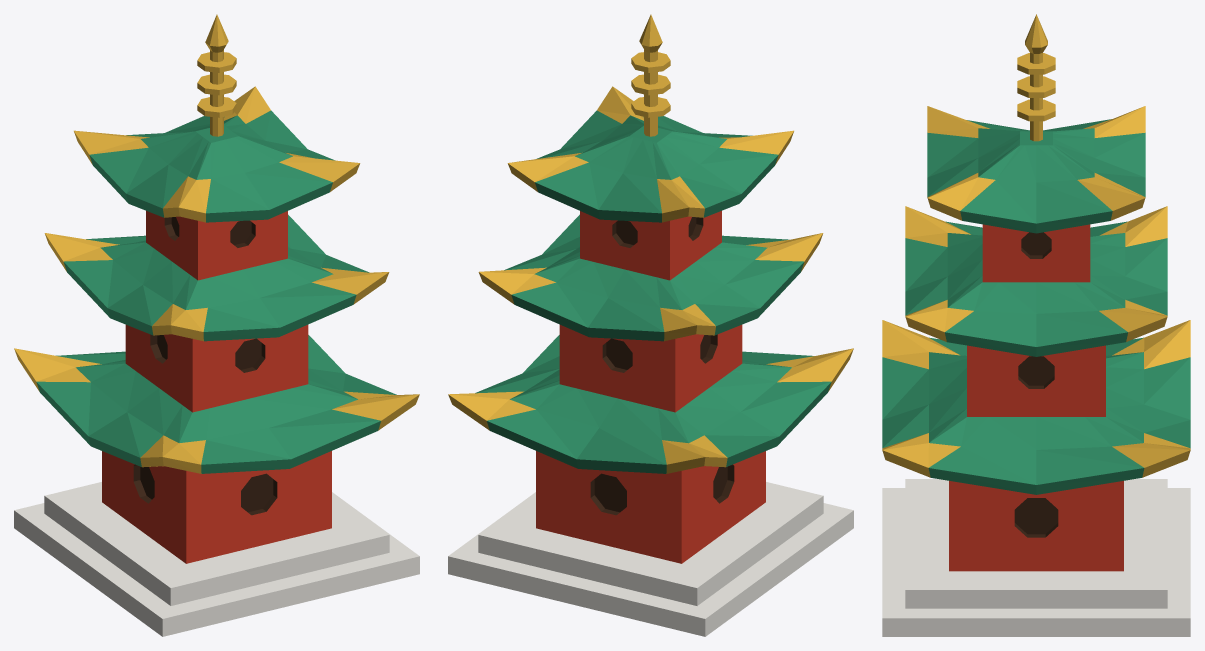
File: pagoda.glb
3 renders of one model, left to right at view 1: azimuth 30°, elevation 25°; view 2: azimuth 150°, elevation 25°; view 3: azimuth 270°, elevation 25°, orthographic. The views are drawn at different scales.
Parts seen in each view (by area): view 1: Roofs, Walls, Base, Gold, Windows; view 2: Roofs, Walls, Base, Gold, Windows; view 3: Roofs, Base, Walls, Gold, Windows.
Boxes of the visible parts, box(x1,y1,x2,y2) form: Roofs: box(36, 110, 396, 473); Walls: box(102, 211, 331, 563); Base: box(14, 482, 419, 636); Gold: box(14, 14, 419, 473); Windows: box(133, 217, 277, 515); Roofs: box(475, 110, 831, 473); Walls: box(536, 211, 765, 563); Base: box(448, 482, 853, 636); Gold: box(448, 14, 853, 473); Windows: box(590, 217, 734, 515); Roofs: box(882, 119, 1190, 494); Base: box(882, 479, 1190, 636); Walls: box(949, 224, 1123, 571); Gold: box(882, 14, 1190, 477); Windows: box(1014, 232, 1058, 537).
Bounding box in the file's own units: 6 × 11.97 × 6.
